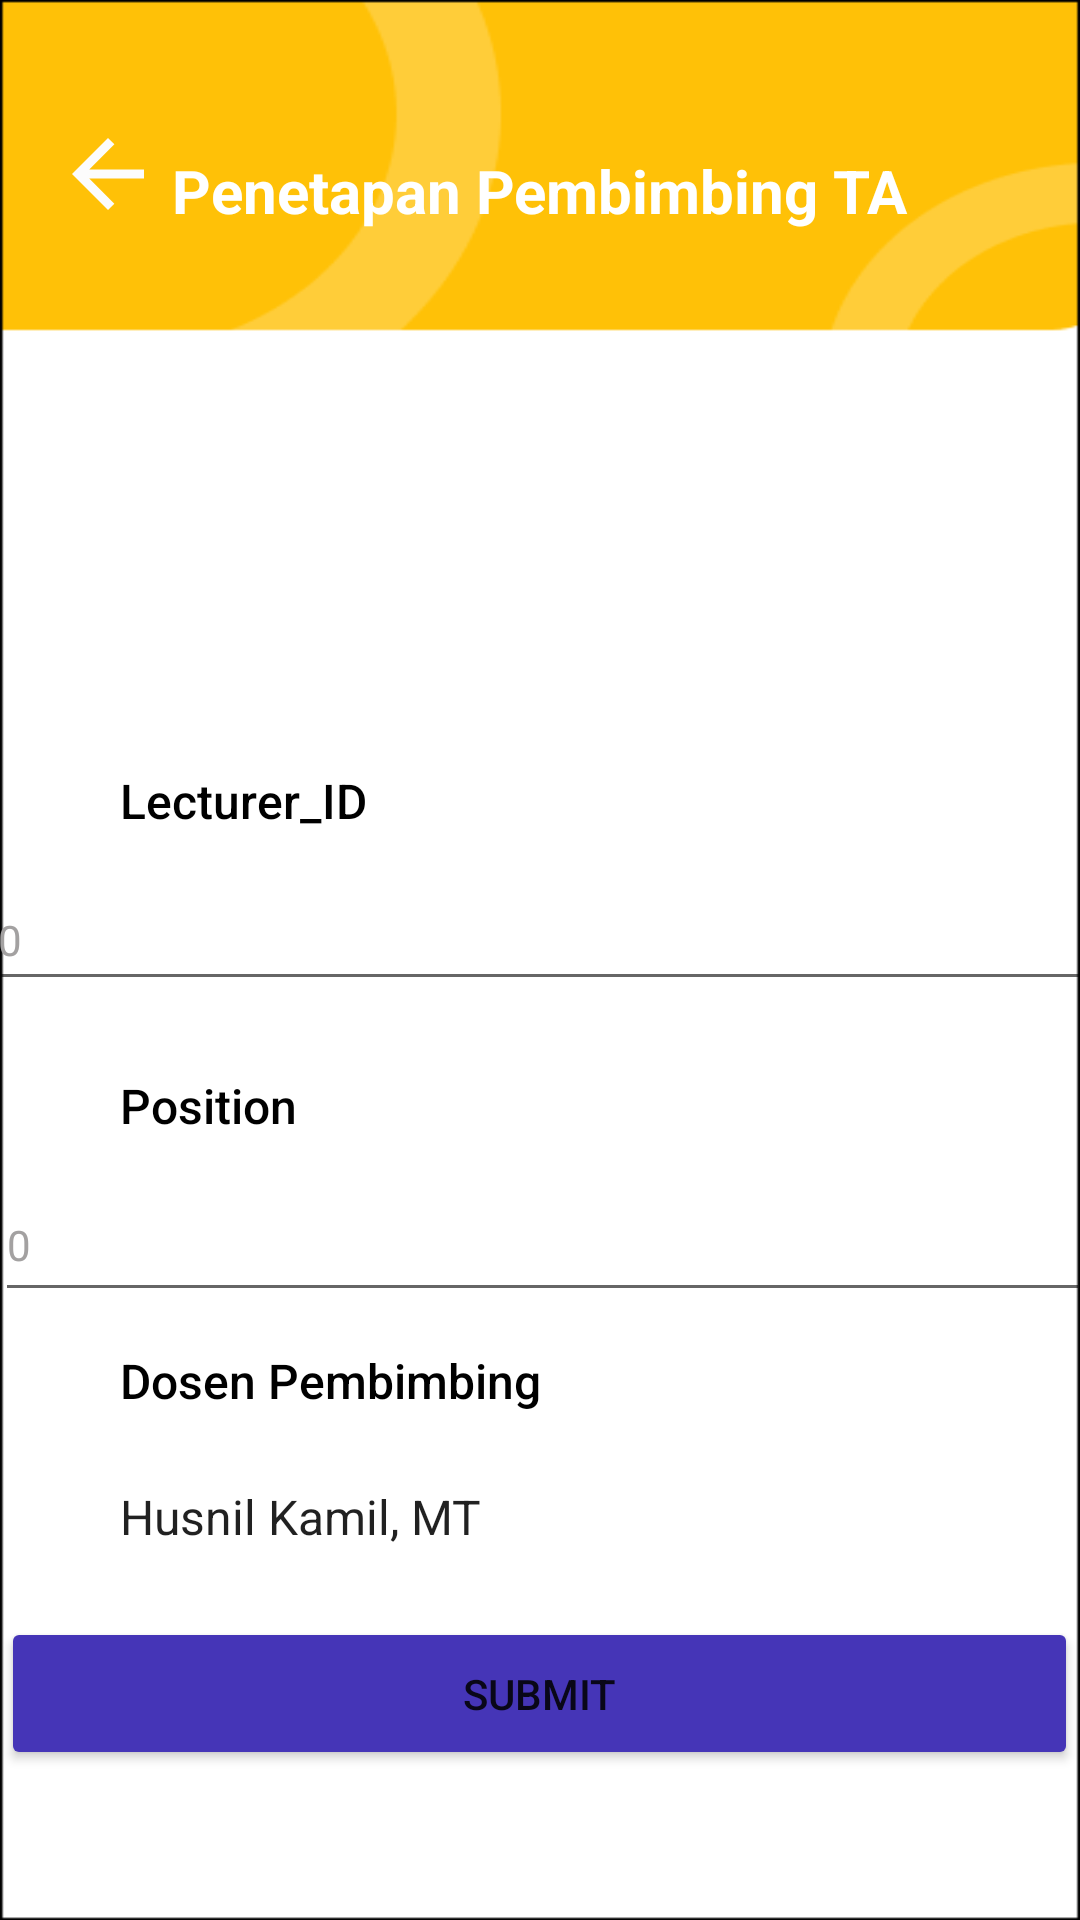

Where to tap for icons on this 1080*1920 app screen, as (x=x, y=y):
arrow left: (x=108, y=174)
